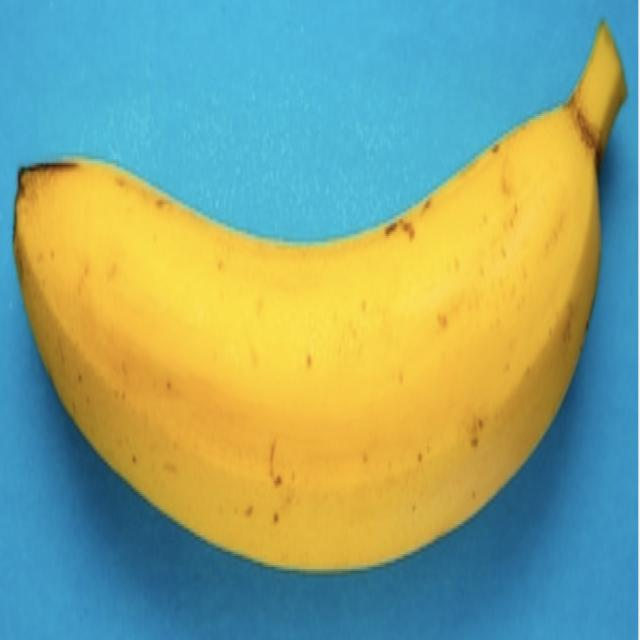banana: (21, 118, 615, 601)
